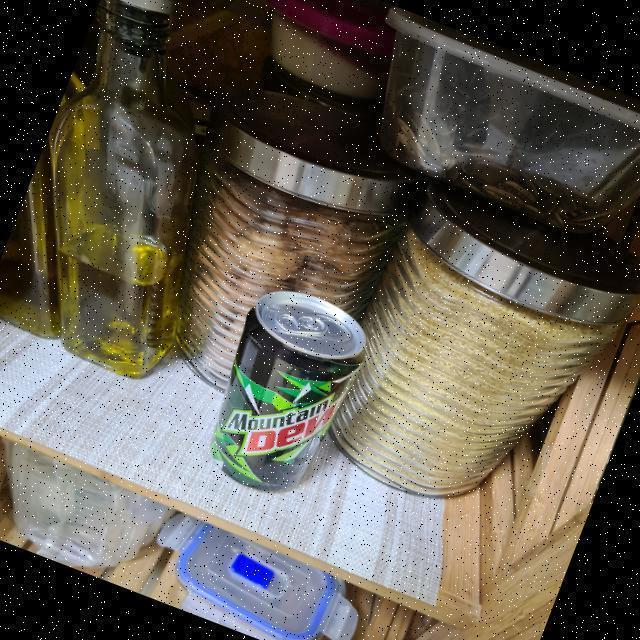metal: (204, 285, 372, 498)
